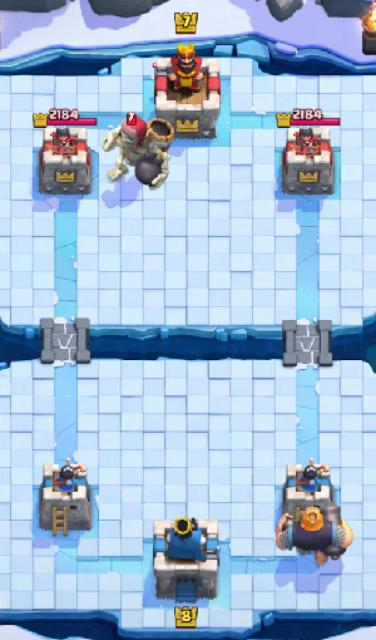ally_tank: (273, 505, 353, 565)
enemy_tank: (102, 112, 170, 190)
